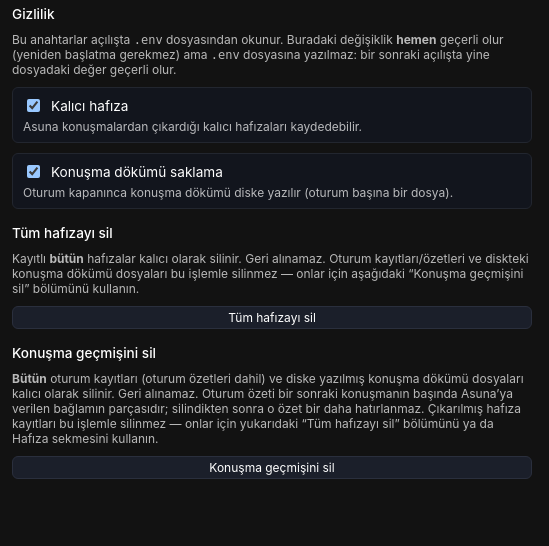
it: SettingsView — konusma gecmisini sil › dokum klasorunde birakilan dosyalari soyler
Click the button "Konuşma geçmişini sil".
click(272, 468)  # box [12,456,532,479]
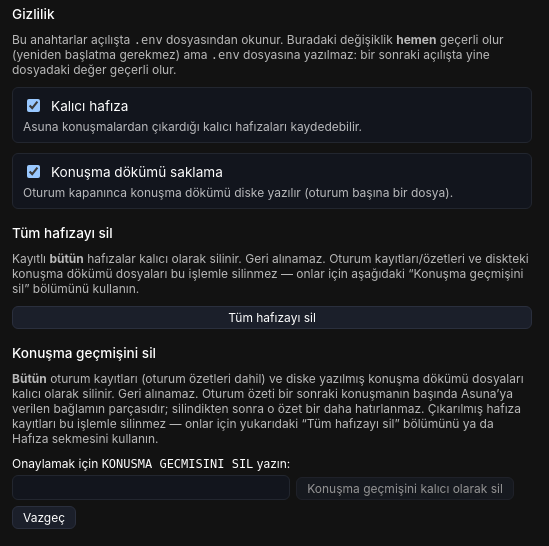
Type "KONUSMA GECMISINI SIL" into the field.
click(151, 488); type("KONUSMA GECMISINI SIL")  # box [12,475,290,500]
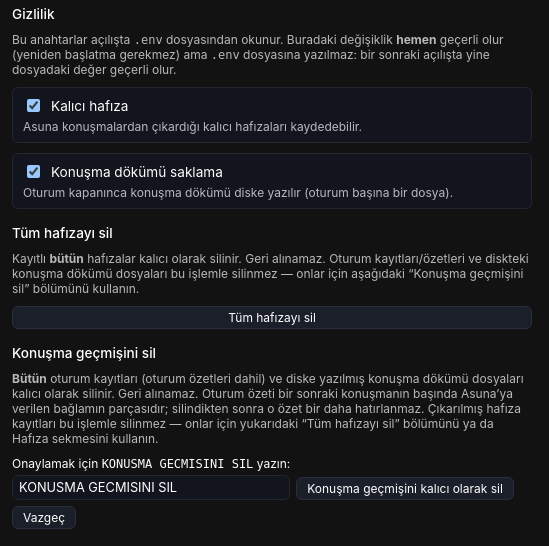
Click the button "Konuşma geçmişini kalıcı olarak sil".
click(405, 488)  # box [296,477,514,500]
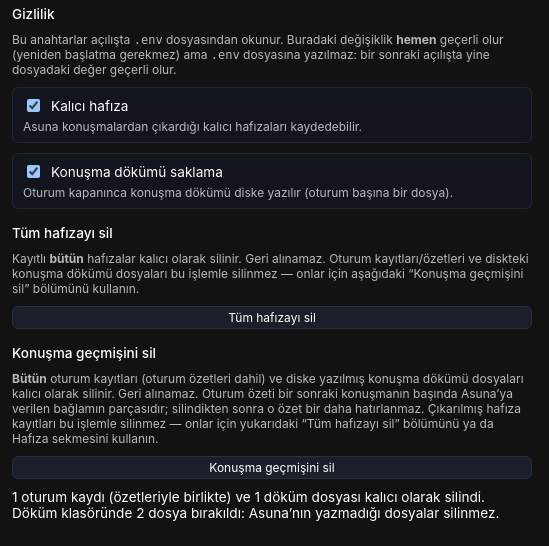
Result: the message shows "Döküm klasöründe 2 dosya bırakıldı" at [12,489,499,521]
